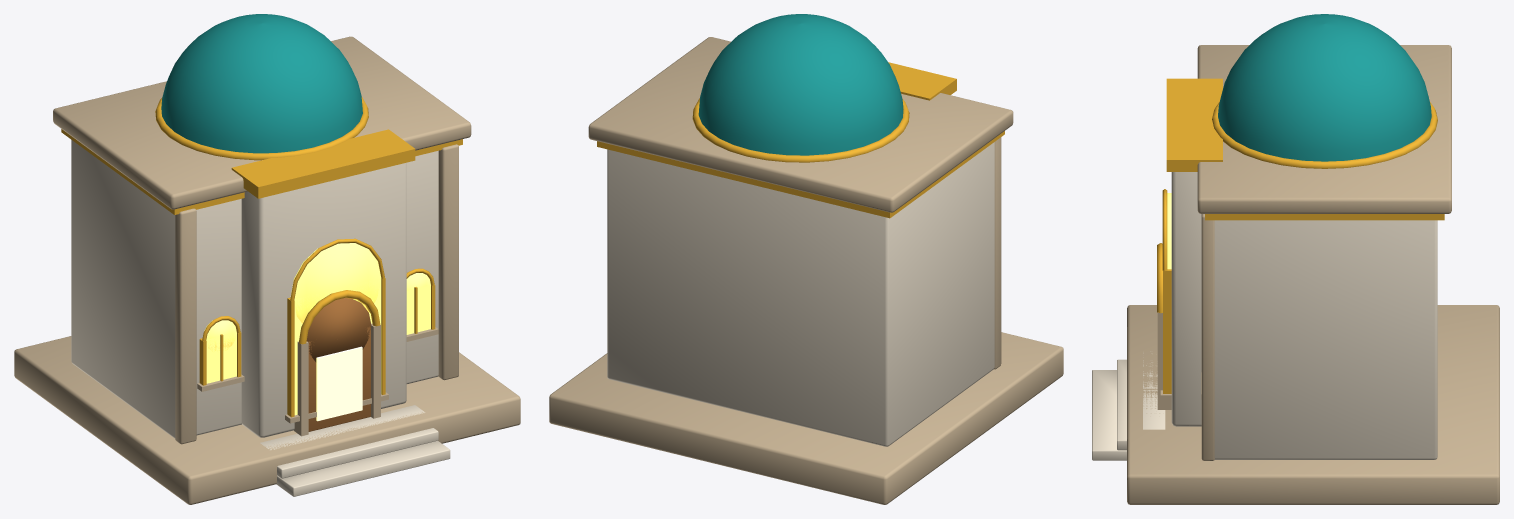
Rendered from palat_2.glb.
3 renders of one model, left to right at view 1: azimuth 30°, elevation 25°; view 2: azimuth 150°, elevation 25°; view 3: azimuth 270°, elevation 25°, orthographic. The views are drawn at different scales.
Visible parts, largest first — view 1: Palat.001; view 2: Palat.001; view 3: Palat.001.
Boxes of the visible parts, bbox=[...] form: Palat.001: bbox=[14, 14, 520, 504]; Palat.001: bbox=[549, 14, 1063, 504]; Palat.001: bbox=[1092, 14, 1499, 504].
Size of the model in its own units: 3.6 by 3.87 by 3.61.
